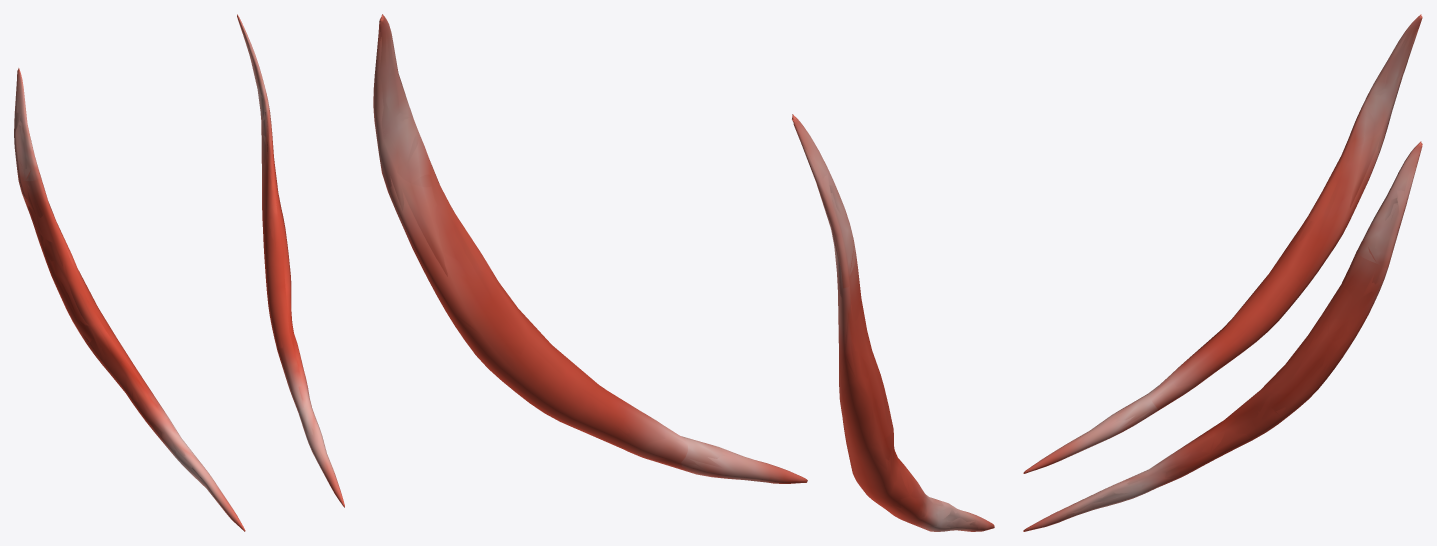
File: Depressor Labii Mandibular.fbx
3 views of the same model, side by side, from view 1: azimuth 30°, elevation 25°; view 2: azimuth 150°, elevation 25°; view 3: azimuth 270°, elevation 25° (orthographic). The views are drawn at different scales.
Parts seen in each view (by area): view 1: Depressor Labii Mandibular low, Depressor Labii Mandibular; view 2: Depressor Labii Mandibular, Depressor Labii Mandibular low; view 3: Depressor Labii Mandibular, Depressor Labii Mandibular low.
Part boxes in pixels (x1,y1,x2,y2): Depressor Labii Mandibular low: (14,15,344,529); Depressor Labii Mandibular: (14,14,344,531); Depressor Labii Mandibular: (373,14,994,531); Depressor Labii Mandibular low: (373,14,991,531); Depressor Labii Mandibular: (1023,14,1422,531); Depressor Labii Mandibular low: (1024,14,1421,530).
Size of the model in its own units: 19.2 by 26.33 by 22.41.
Materials: 1 (1 with a texture image).
